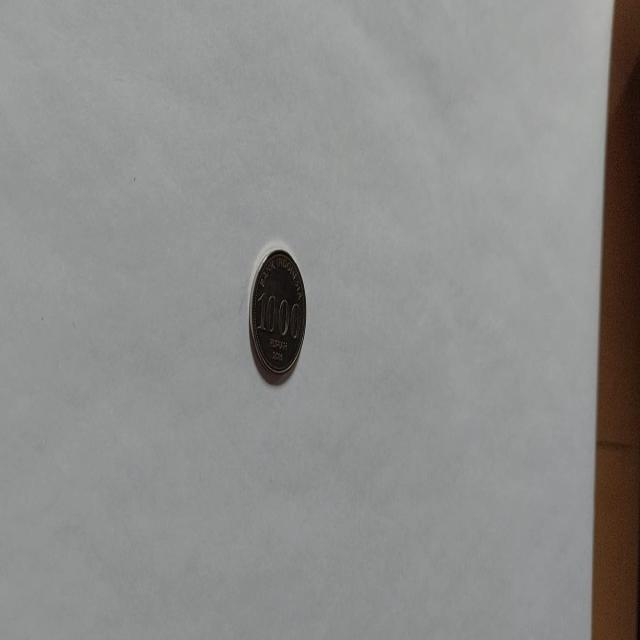seribu rupiah koin: (247, 245, 307, 385)
